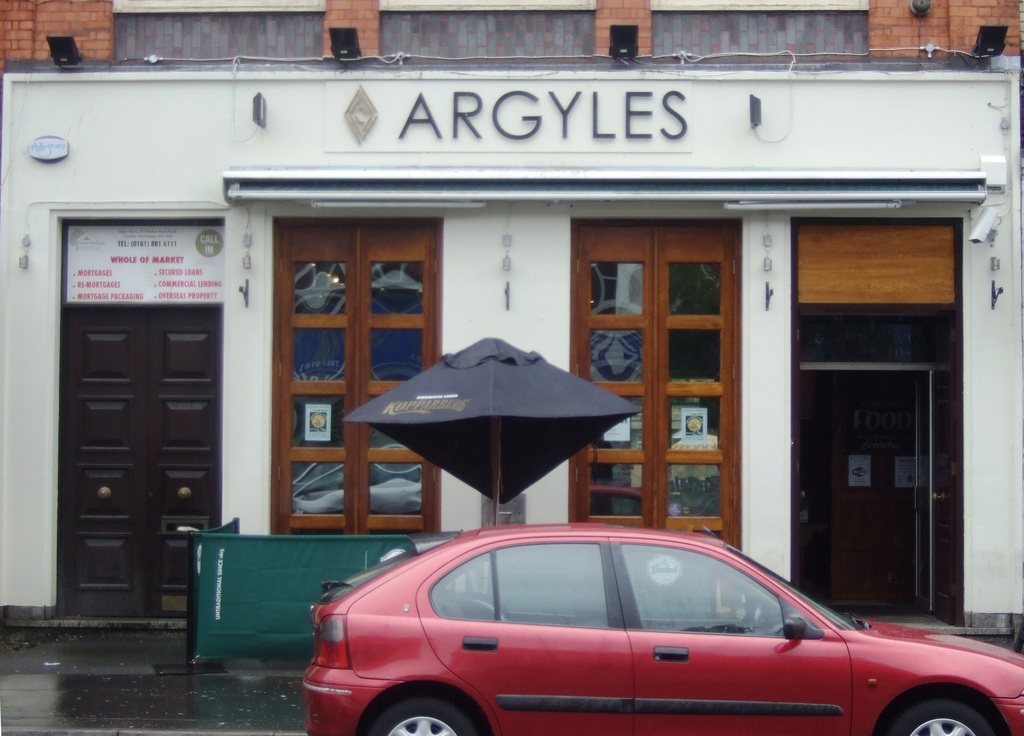cars: (297, 527, 1022, 735)
